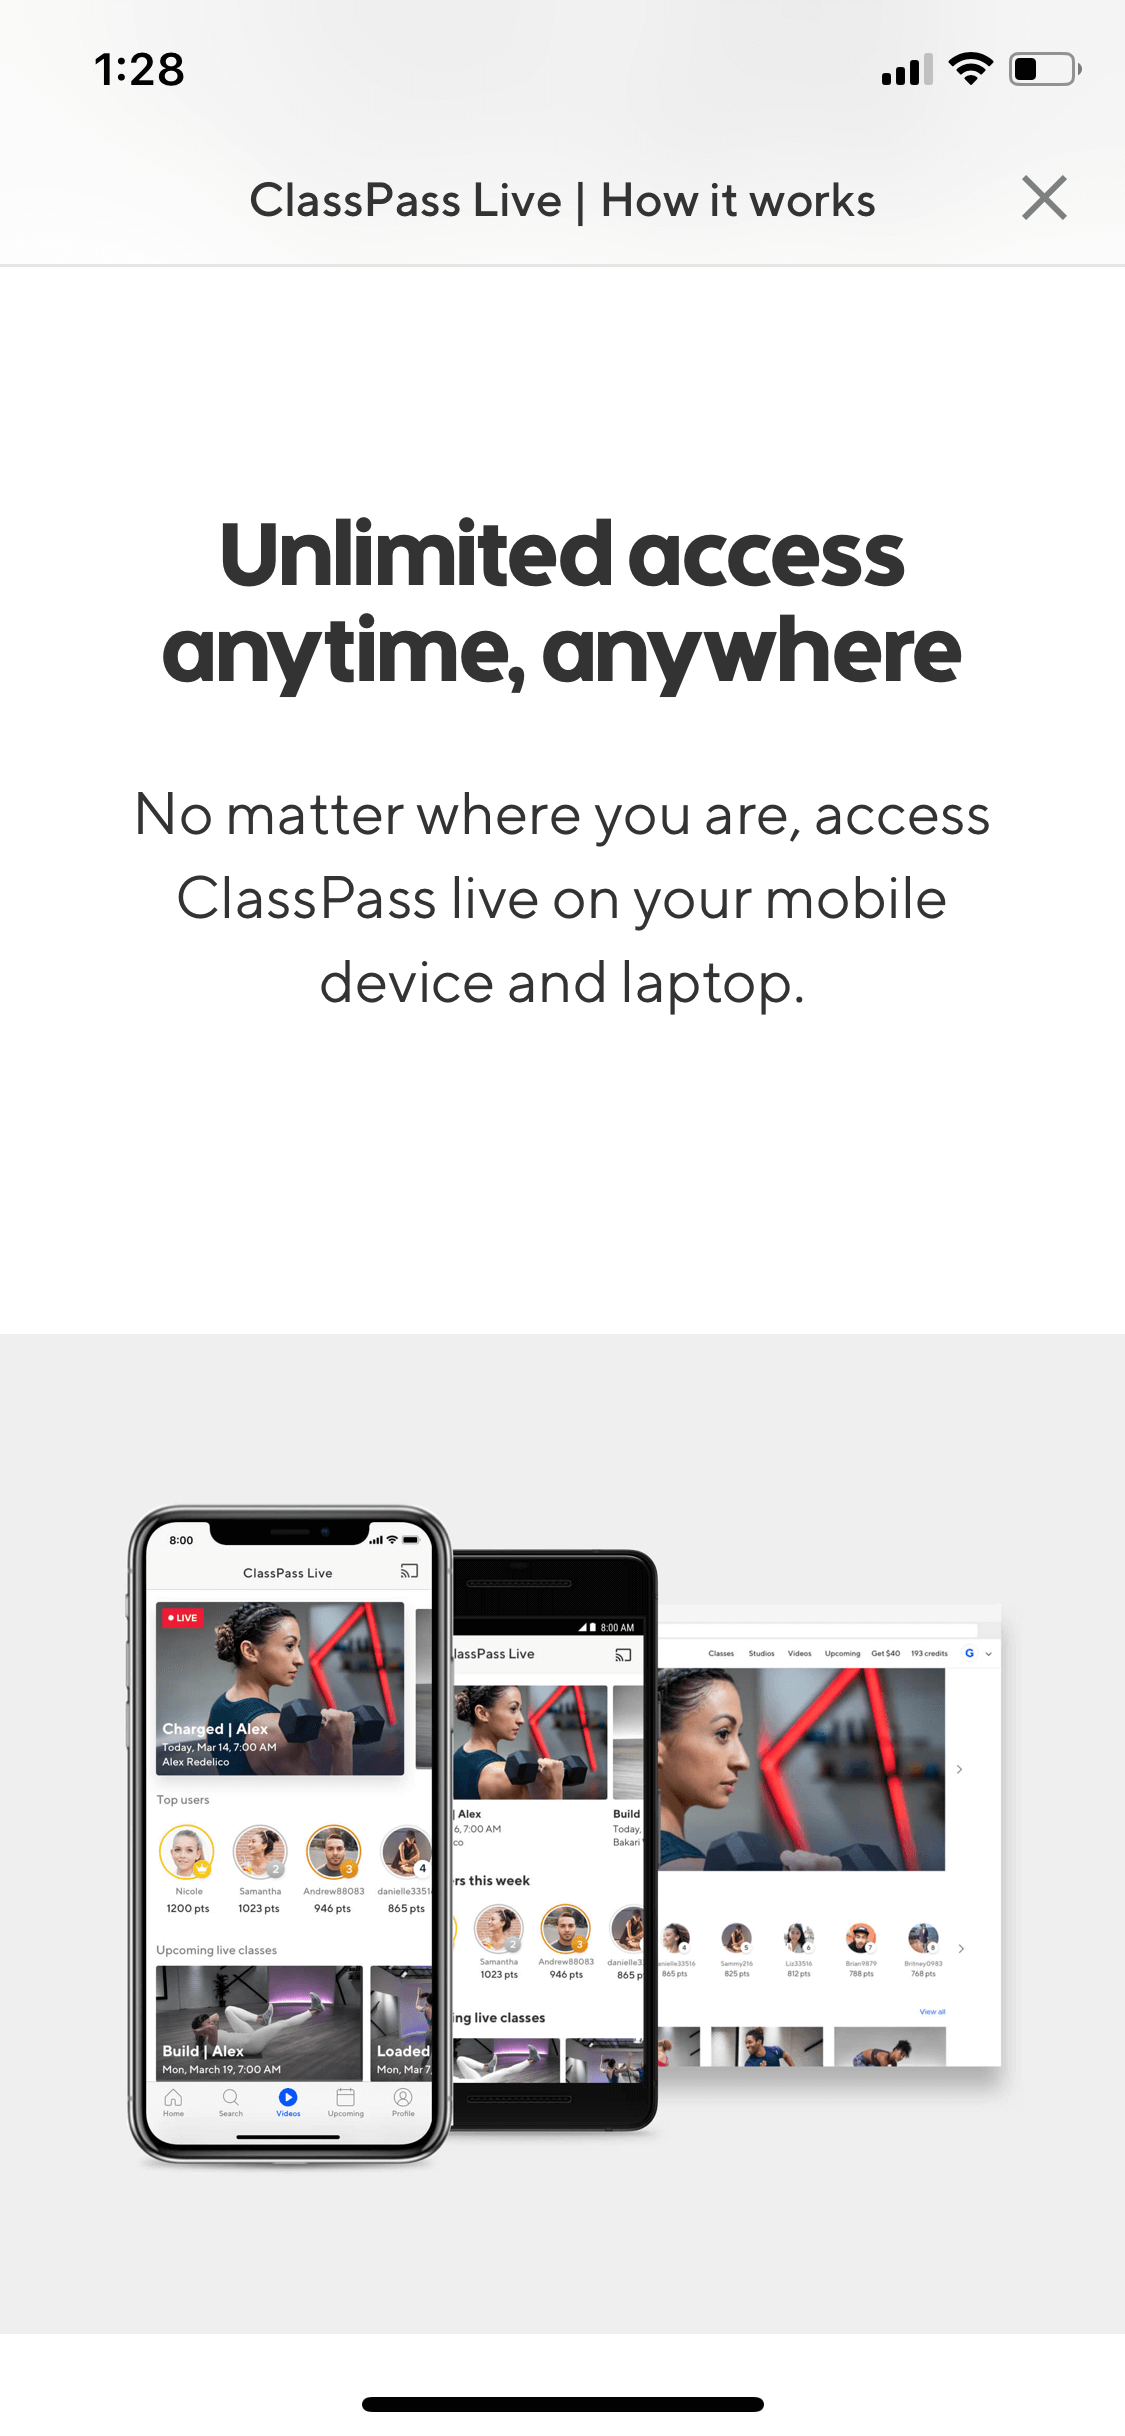Buttons: (979, 148, 1100, 250)
